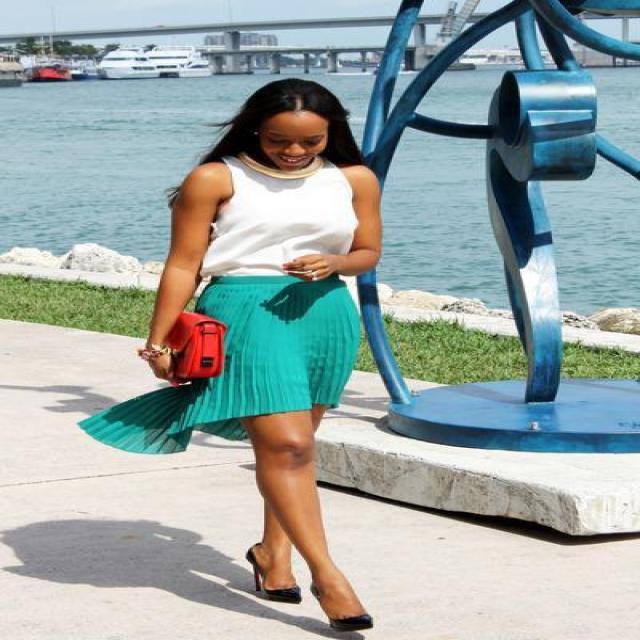bag: (144, 313, 226, 386)
shirt: (195, 154, 357, 293)
shoe: (246, 548, 372, 639)
skirt: (77, 273, 358, 453)
